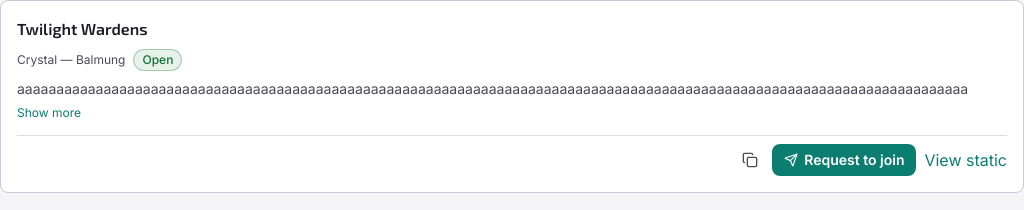
Test: FinderCard — Show more/less › toggles to Show less on click
Click the button "Show more" at (49, 113), box left=17, top=105, right=81, bottom=121
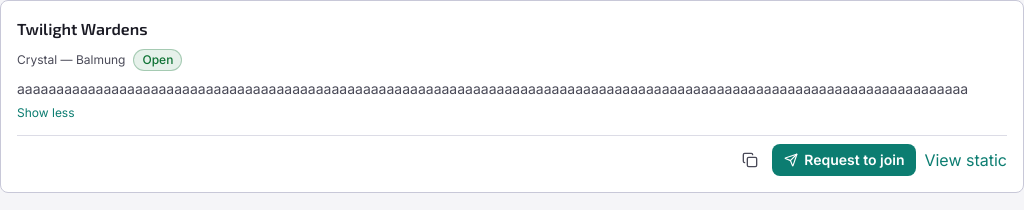
expect the button "Show less" is shown: met, box left=17, top=105, right=74, bottom=121
